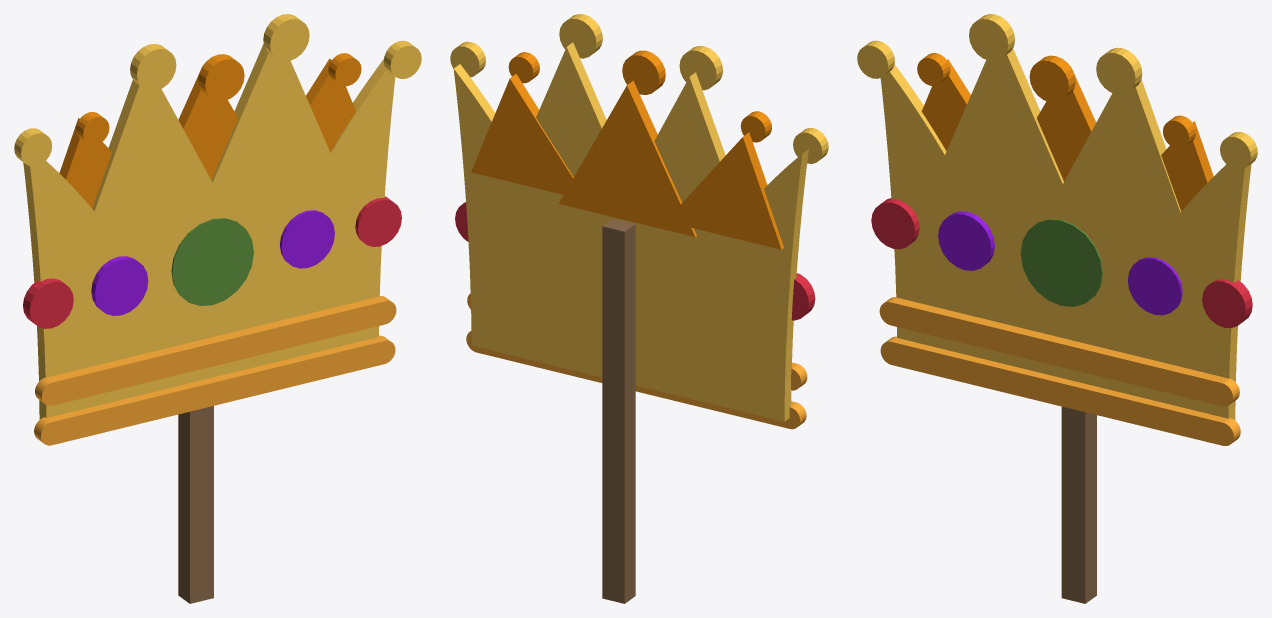
File: couronne.glb
3 views of the same model, side by side, from view 1: azimuth 30°, elevation 25°; view 2: azimuth 150°, elevation 25°; view 3: azimuth 330°, elevation 25° (orthographic). The views are drawn at different scales.
Bounding box in the file's own units: 1 × 1.4 × 0.153.
